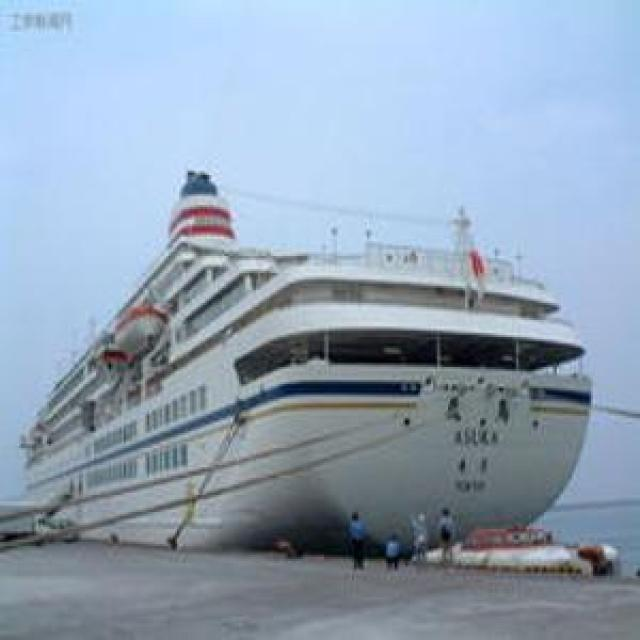houseboat: (419, 513, 616, 577)
passenger ship: (33, 171, 590, 554)
